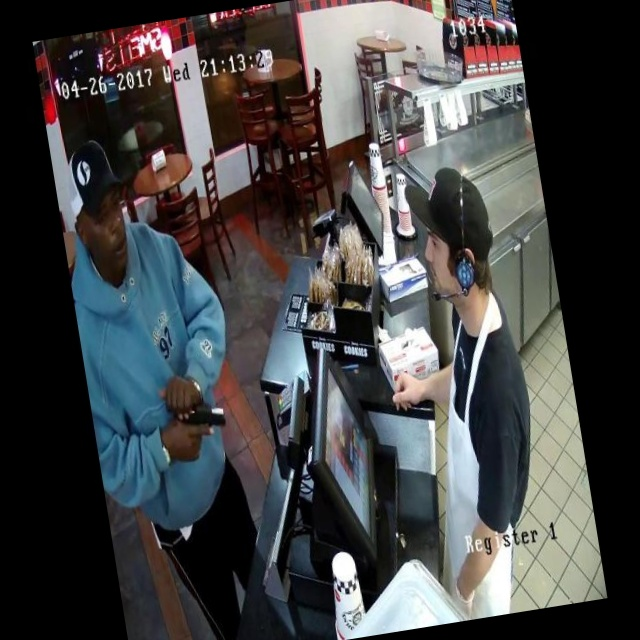gun: (151, 376, 238, 455)
